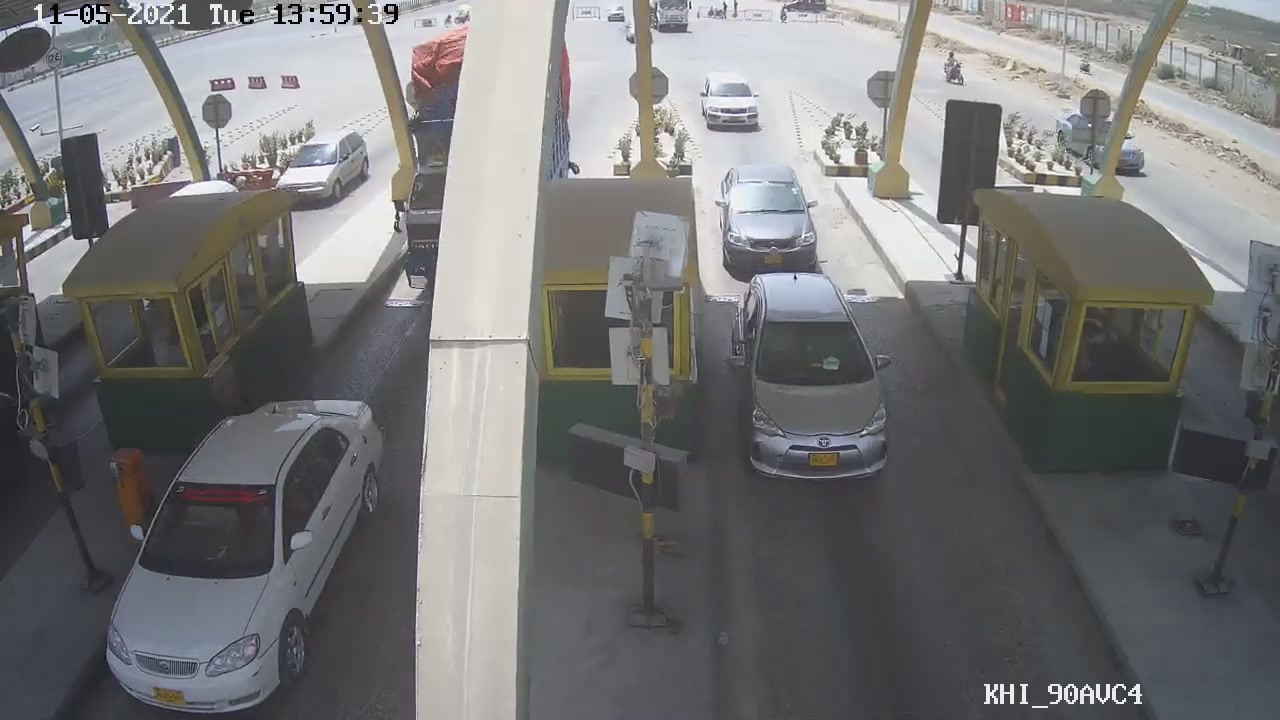F1: (727, 259, 898, 485)
